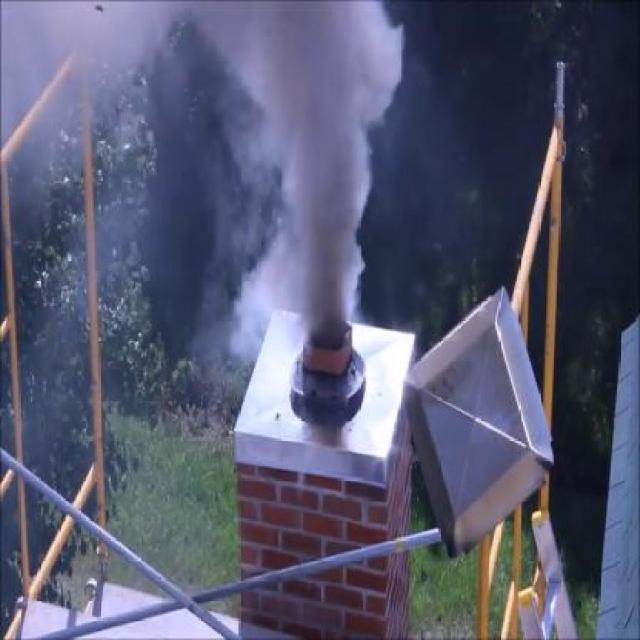smoke: (188, 7, 427, 327)
